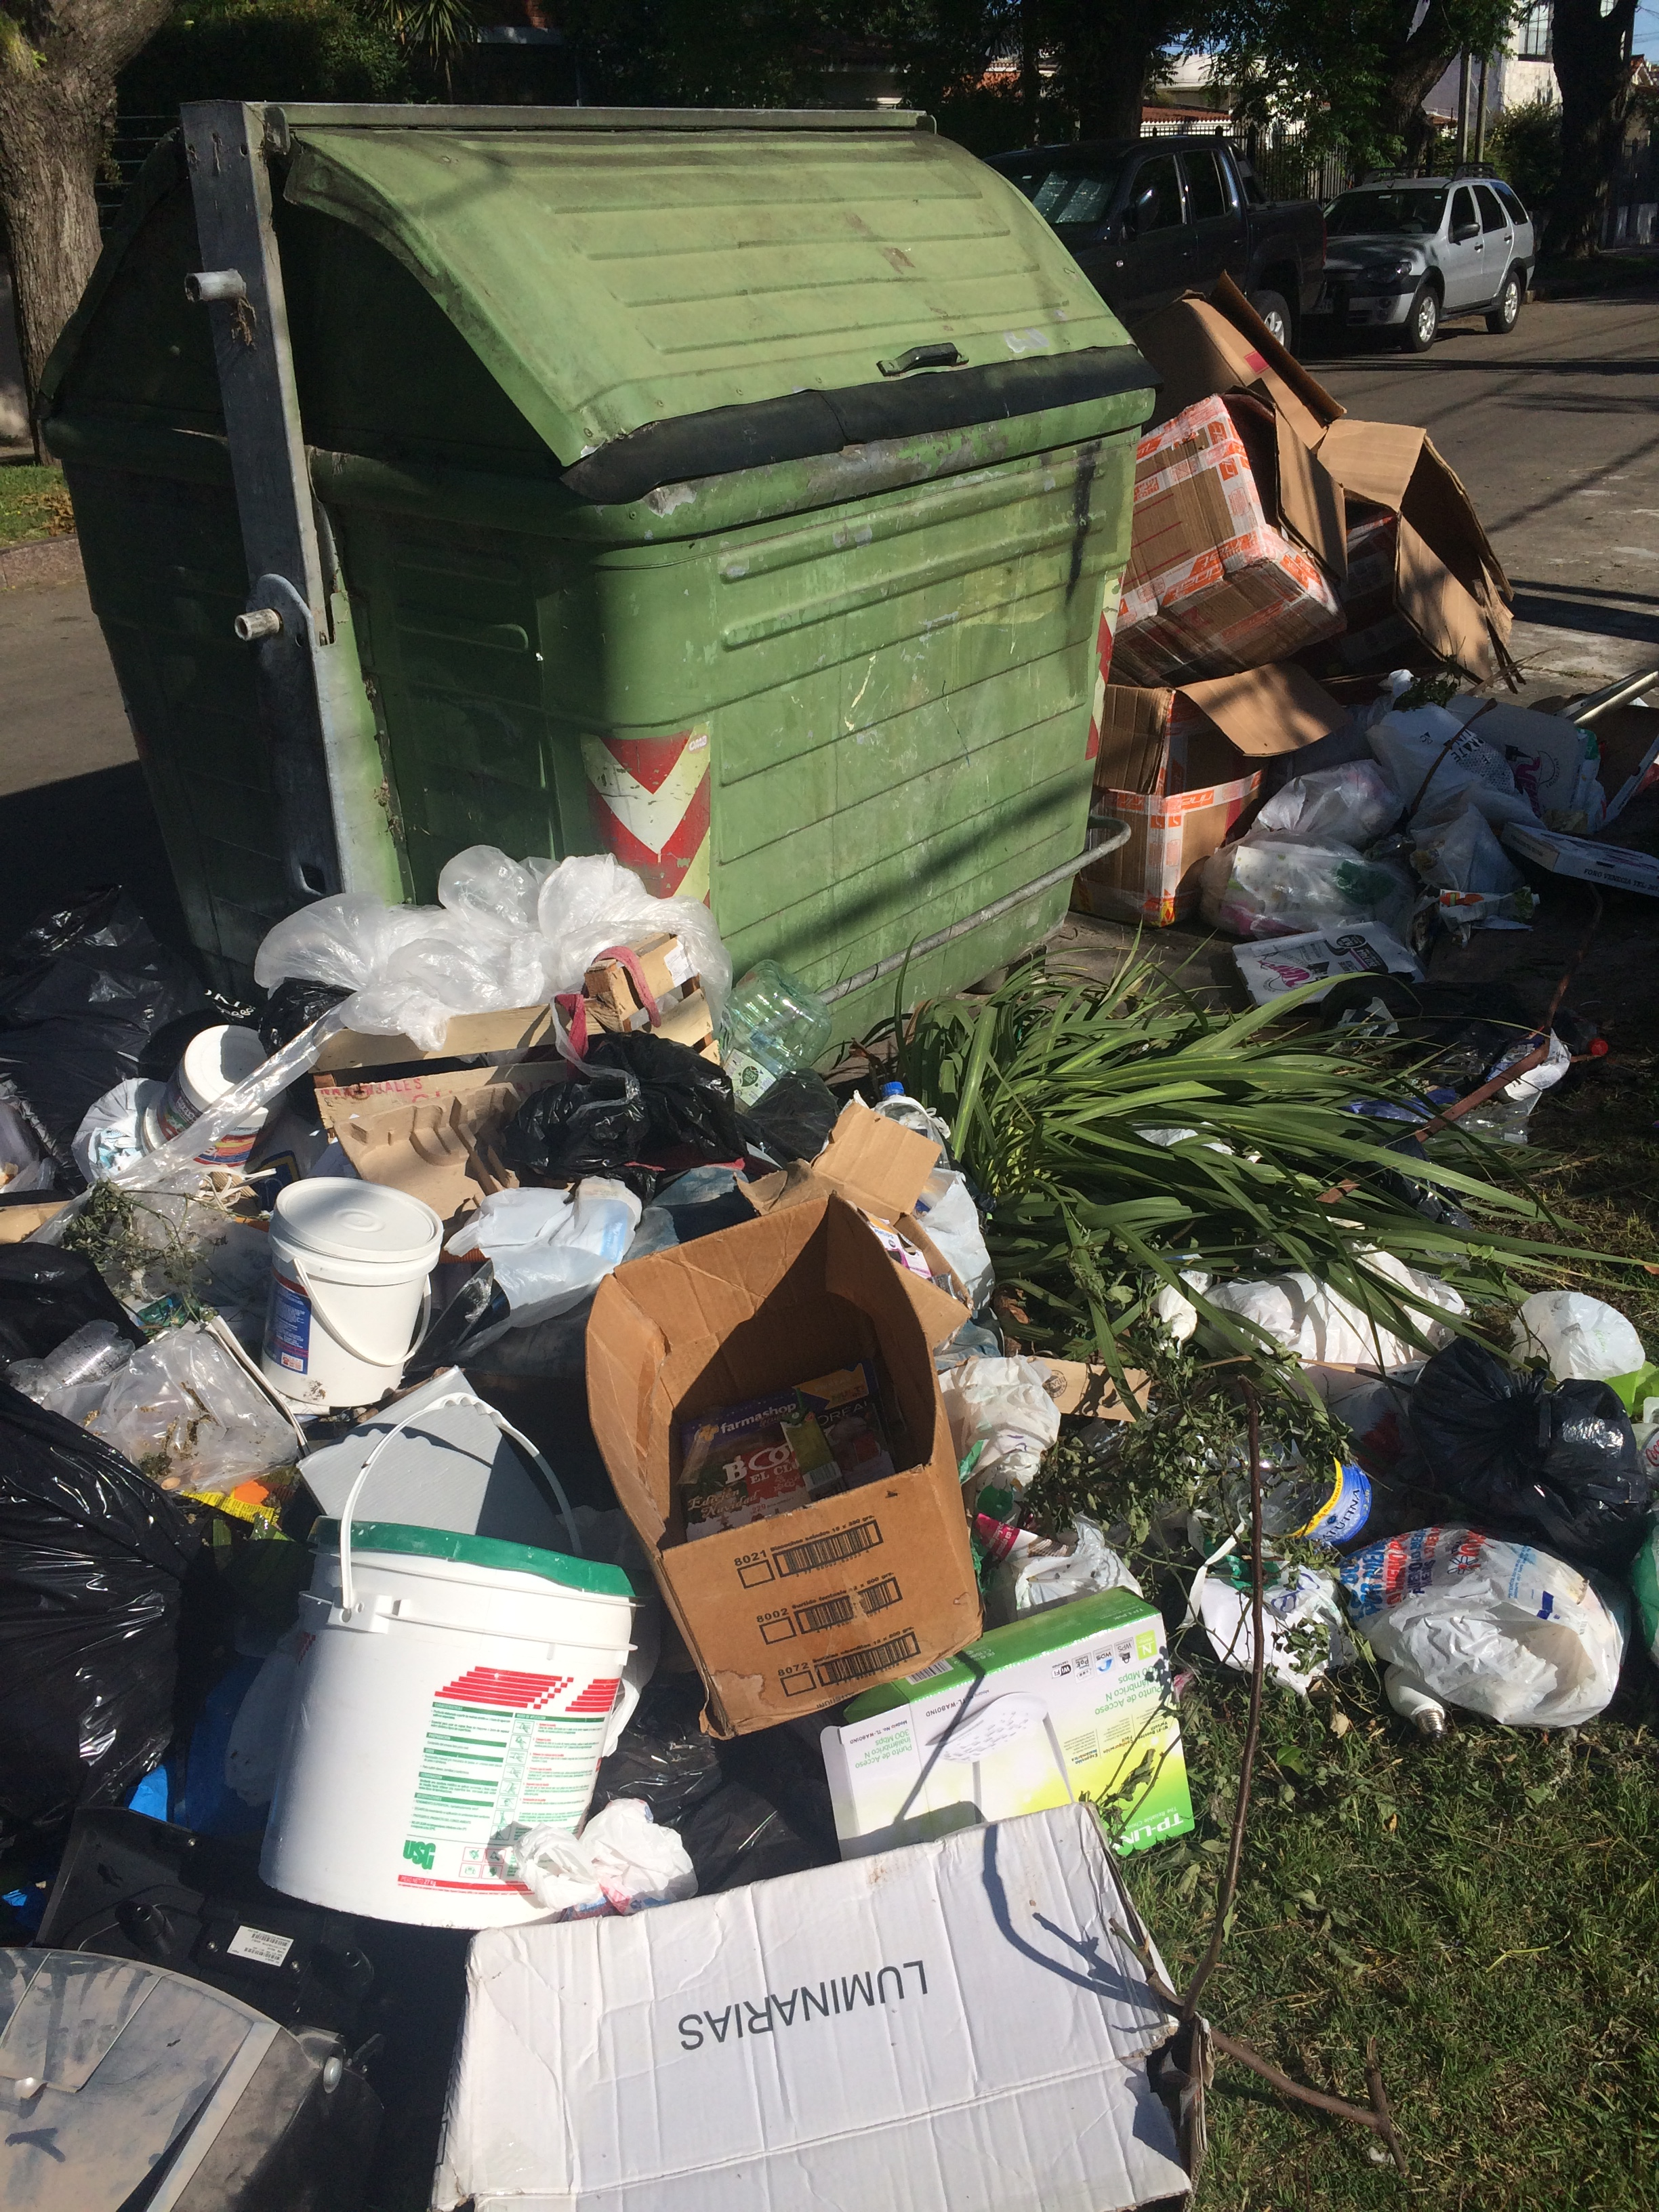container: (16, 47, 1171, 1087)
